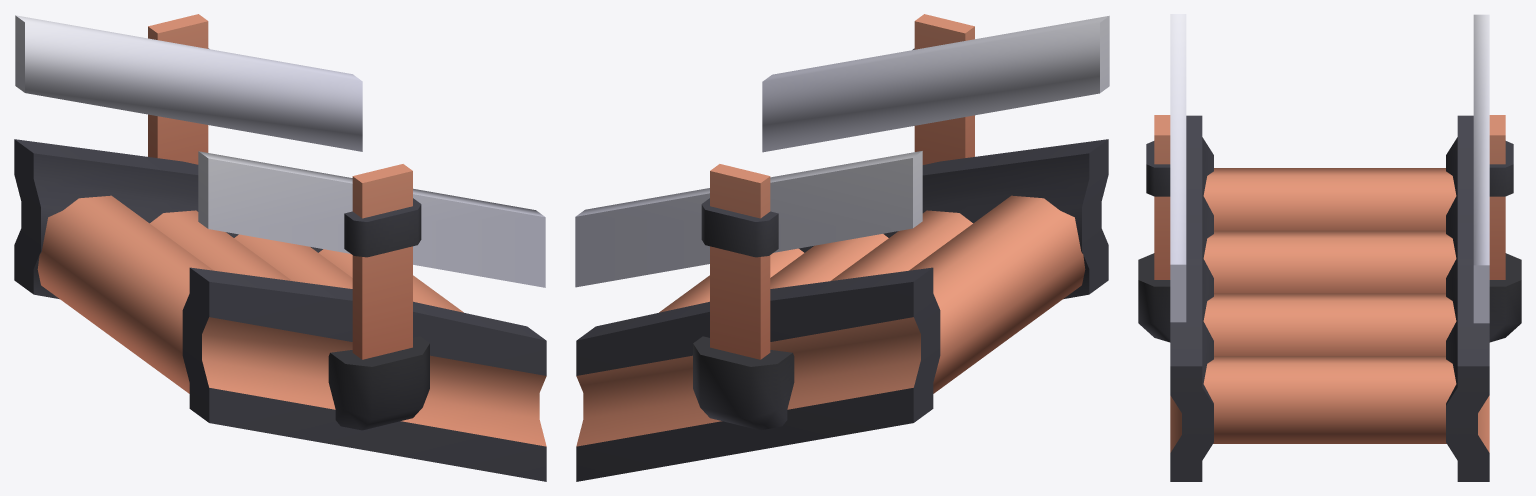
Rendered from conveyor-bars-fence-slope.obj.
The picture shows the model from 3 angles, left to right: view 1: azimuth 30°, elevation 25°; view 2: azimuth 150°, elevation 25°; view 3: azimuth 270°, elevation 25°; orthographic projection. The views are drawn at different scales.
Visible parts, largest first — view 1: conveyor-bars-fence-slope; view 2: conveyor-bars-fence-slope; view 3: conveyor-bars-fence-slope.
Part boxes in pixels (x1,y1,x2,y2): conveyor-bars-fence-slope: (14, 14, 546, 481); conveyor-bars-fence-slope: (575, 14, 1109, 481); conveyor-bars-fence-slope: (1138, 14, 1521, 481).
Bounding box in the file's own units: 1.01 × 1.15 × 1.2.
